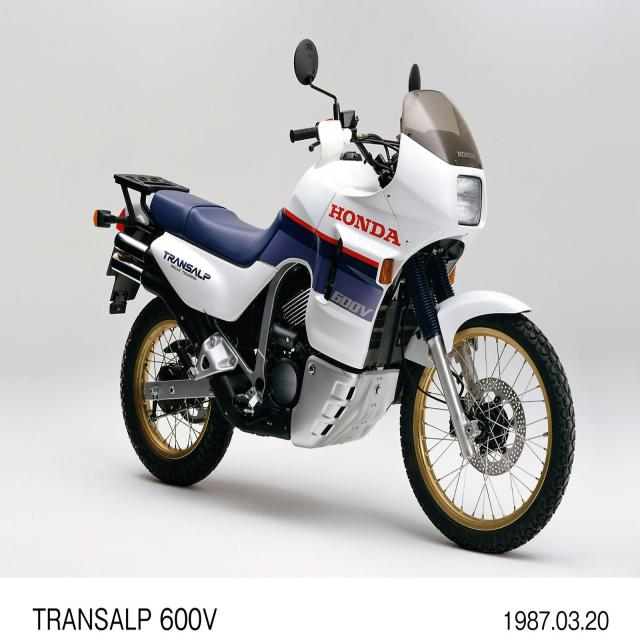Motorcycle: (95, 66, 576, 553)
